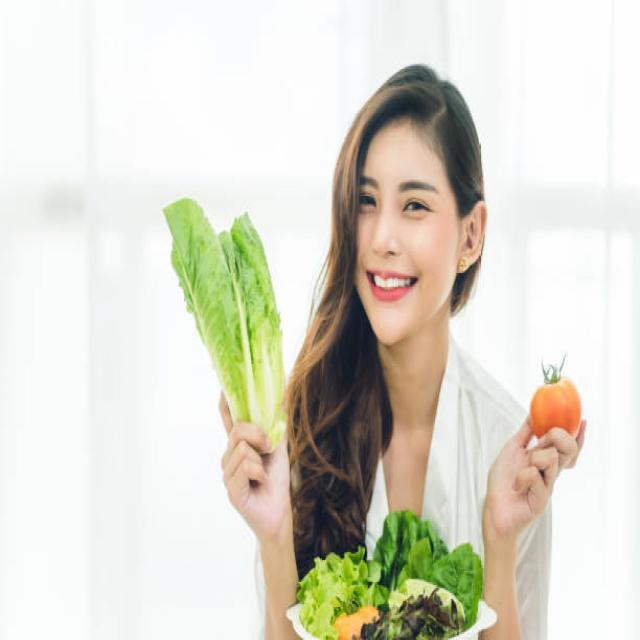Lettuce-Ready-to-Harvest: (159, 199, 262, 446), (222, 210, 288, 452)
